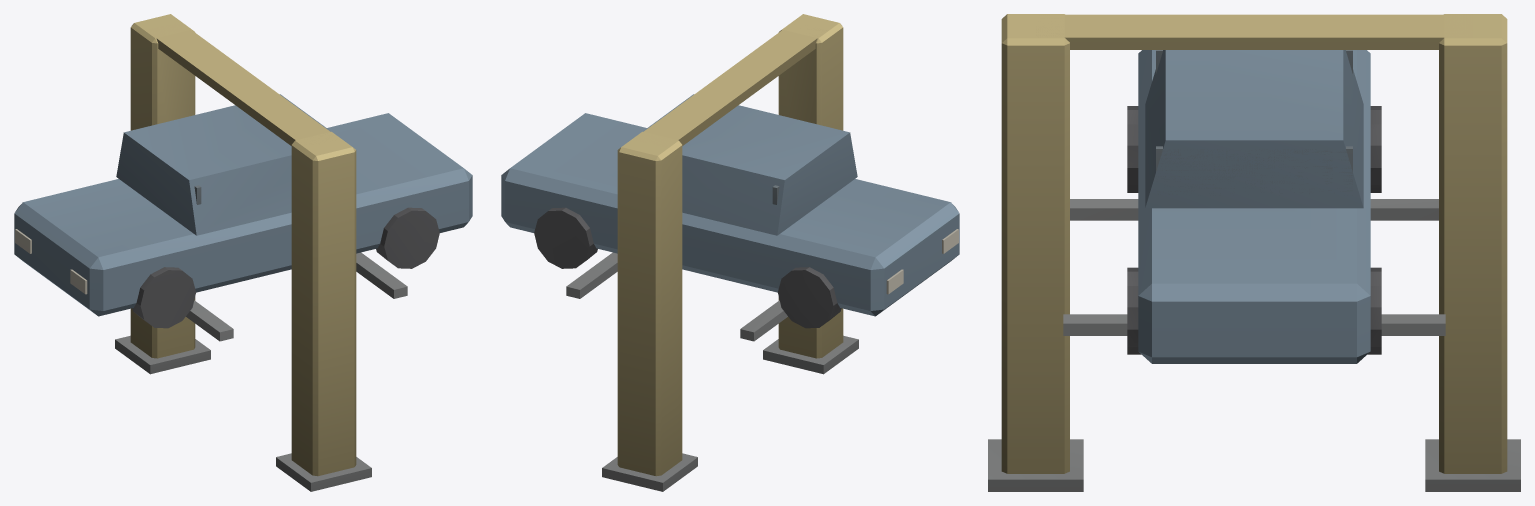
File: int_carlift.glb
3 renders of one model, left to right at view 1: azimuth 30°, elevation 25°; view 2: azimuth 150°, elevation 25°; view 3: azimuth 270°, elevation 25°, orthographic. The views are drawn at different scales.
Parts seen in each view (by area): view 1: int_carlift; view 2: int_carlift; view 3: int_carlift.
Part boxes in pixels (x1,y1,x2,y2): int_carlift: [14, 14, 472, 491]; int_carlift: [501, 14, 959, 491]; int_carlift: [988, 14, 1520, 491].
Bounding box in the file's own units: 4.42 × 3.6 × 3.9.
